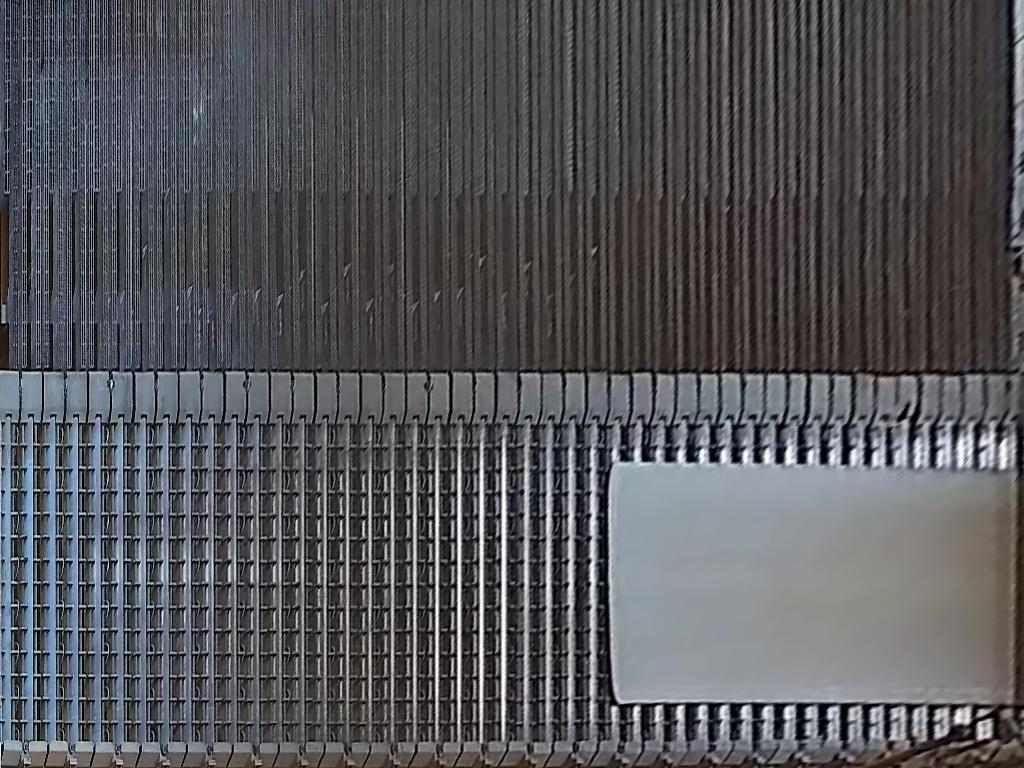steel: (610, 462, 1024, 704)
